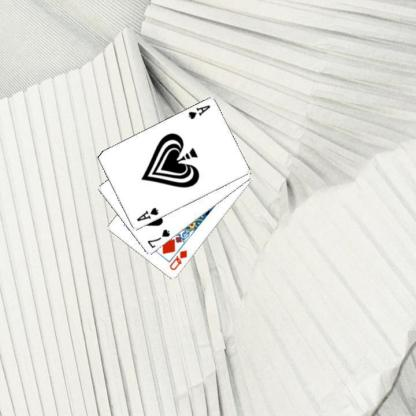7S: (145, 226, 171, 249)
AS: (134, 205, 160, 223), (186, 103, 212, 121)
QD: (167, 248, 188, 271)
